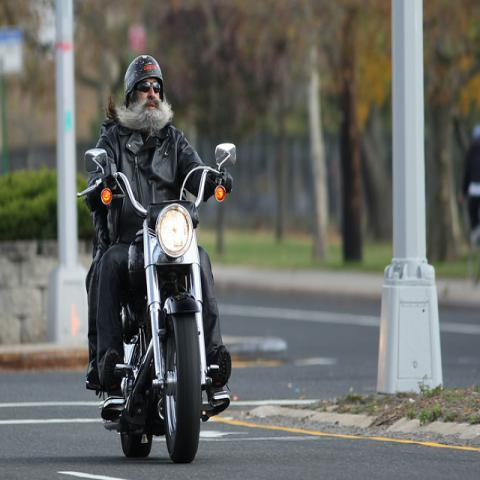motorcycle: (78, 140, 236, 462)
